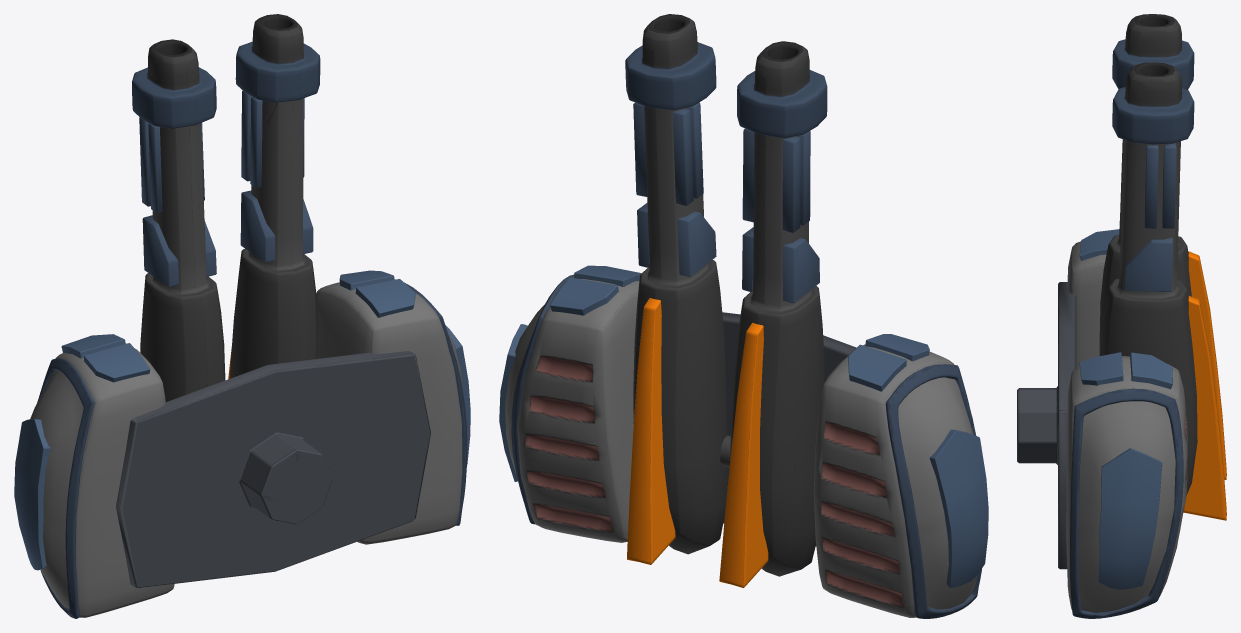
Rendered from gun_double.fbx.
3 renders of one model, left to right at view 1: azimuth 30°, elevation 25°; view 2: azimuth 150°, elevation 25°; view 3: azimuth 270°, elevation 25°, orthographic. The views are drawn at different scales.
Parts seen in each view (by area): view 1: gun_base_double, gun_barrel_double, gun_base_sides_double; view 2: gun_barrel_double, gun_base_sides_double, gun_base_double; view 3: gun_barrel_double, gun_base_sides_double, gun_base_double.
Boxes of the visible parts, x1,y1,x2,y2 form: gun_base_double: (116, 351, 430, 588); gun_barrel_double: (132, 14, 320, 401); gun_base_sides_double: (14, 270, 470, 618); gun_barrel_double: (625, 14, 827, 587); gun_base_sides_double: (499, 265, 988, 618); gun_base_double: (722, 312, 856, 545); gun_barrel_double: (1099, 14, 1226, 520); gun_base_sides_double: (1066, 229, 1187, 618); gun_base_double: (1017, 282, 1076, 569).
Size of the model in its own units: 279 by 311 by 121.
